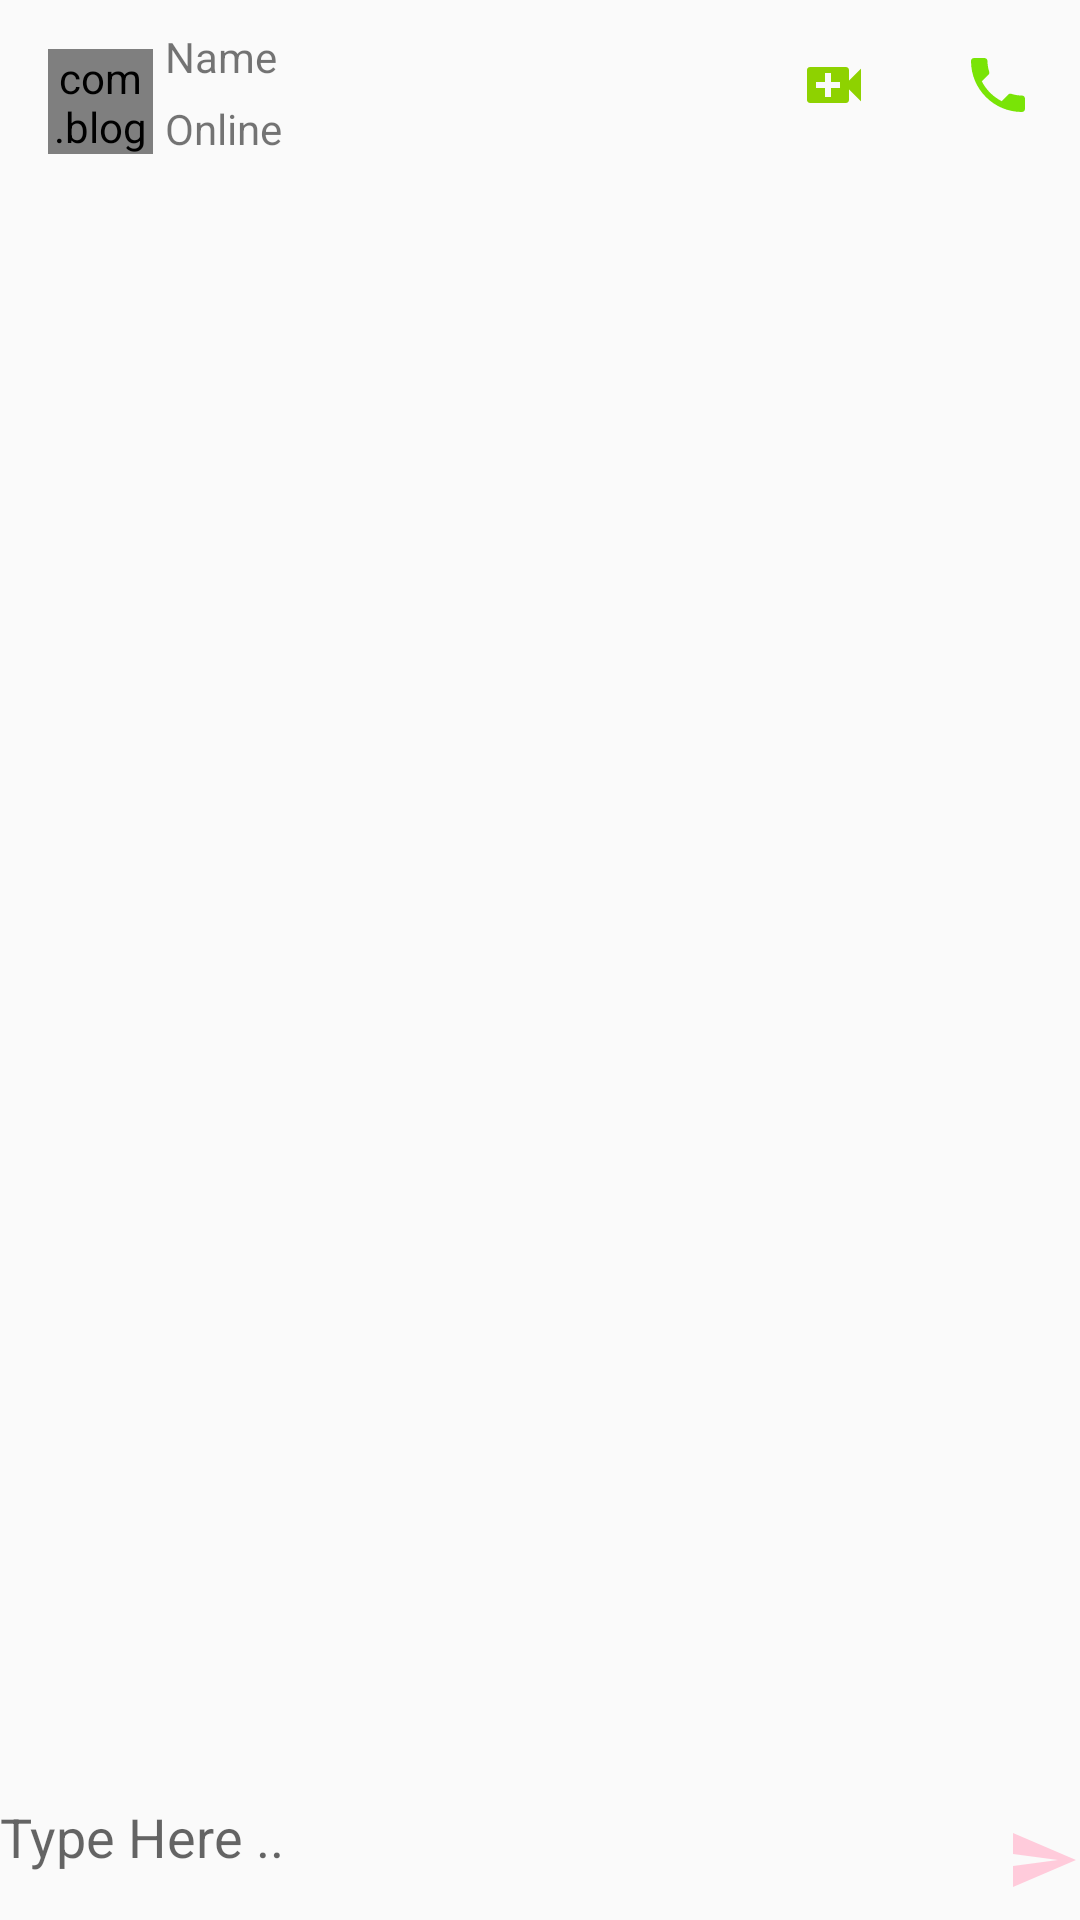

Screen size 1080x1920. Icon name, then its center in pixels as point (x, y):
send: point (1044, 1860)
voice call: point (998, 85)
